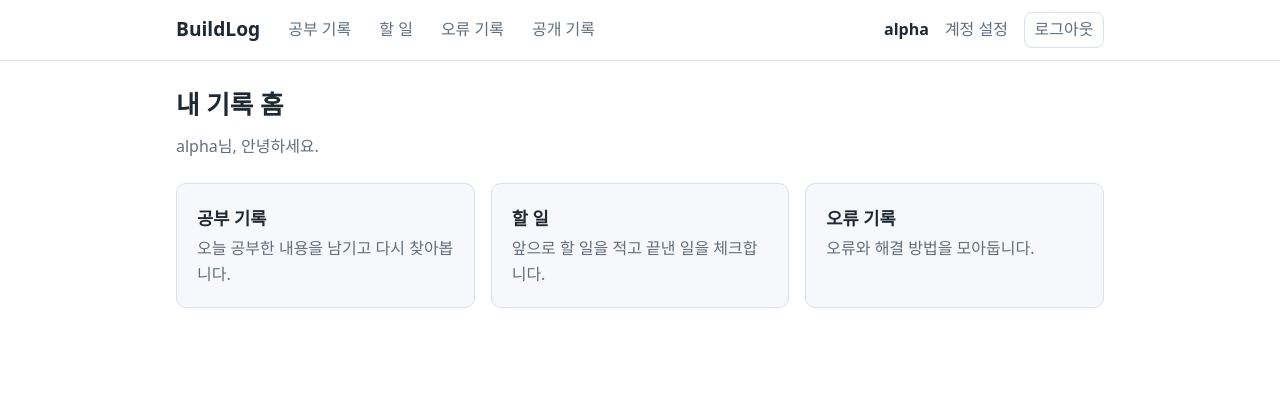
Test: 로그인과 로그아웃 › 로그아웃하면 로그인 값을 지우고 로그인 화면으로 돌아간다
This screenshot has width=1280, height=414.
Click the button "로그아웃". click: (1064, 30)
box: [1024,12,1104,48]
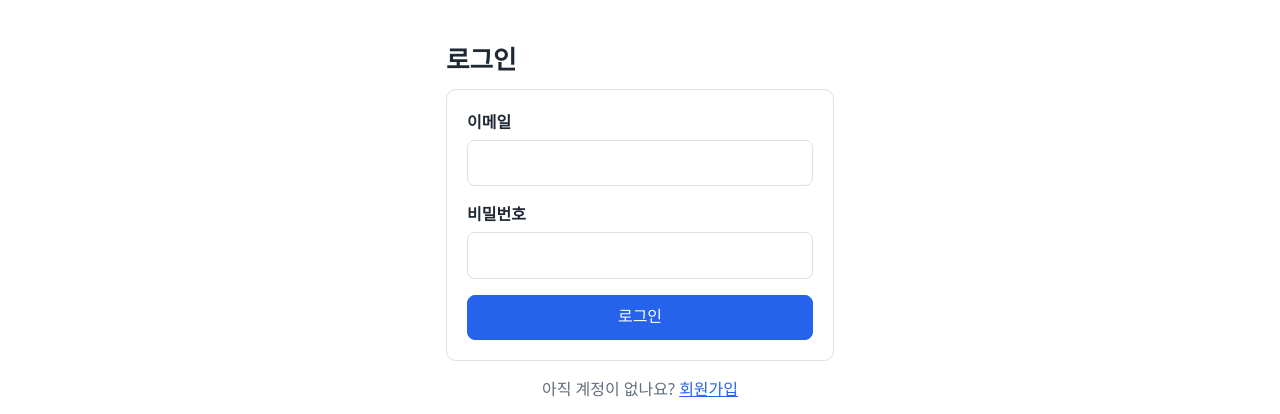
Expected: the heading "로그인" is shown, [446,42,517,77]
